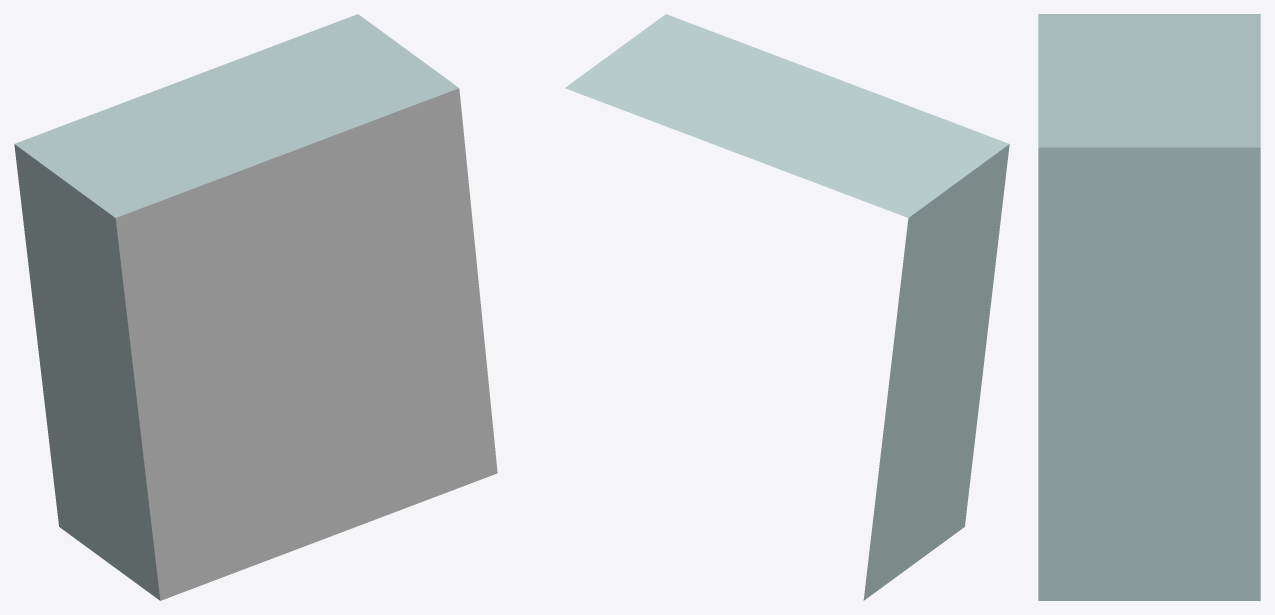
3 renders of one model, left to right at view 1: azimuth 30°, elevation 25°; view 2: azimuth 150°, elevation 25°; view 3: azimuth 270°, elevation 25°, orthographic. The views are drawn at different scales.
Visible parts, largest first — view 1: 0_2_2_1_0_0_2_3_0; view 2: 0_2_2_1_0_0_2_3_0; view 3: 0_2_2_1_0_0_2_3_0.
Boxes of the visible parts, x1,y1,x2,y2 form: 0_2_2_1_0_0_2_3_0: (14,14,497,600); 0_2_2_1_0_0_2_3_0: (565,14,1009,600); 0_2_2_1_0_0_2_3_0: (1038,14,1260,600).
Bounding box in the file's own units: 6.53 × 7.19 × 3.
